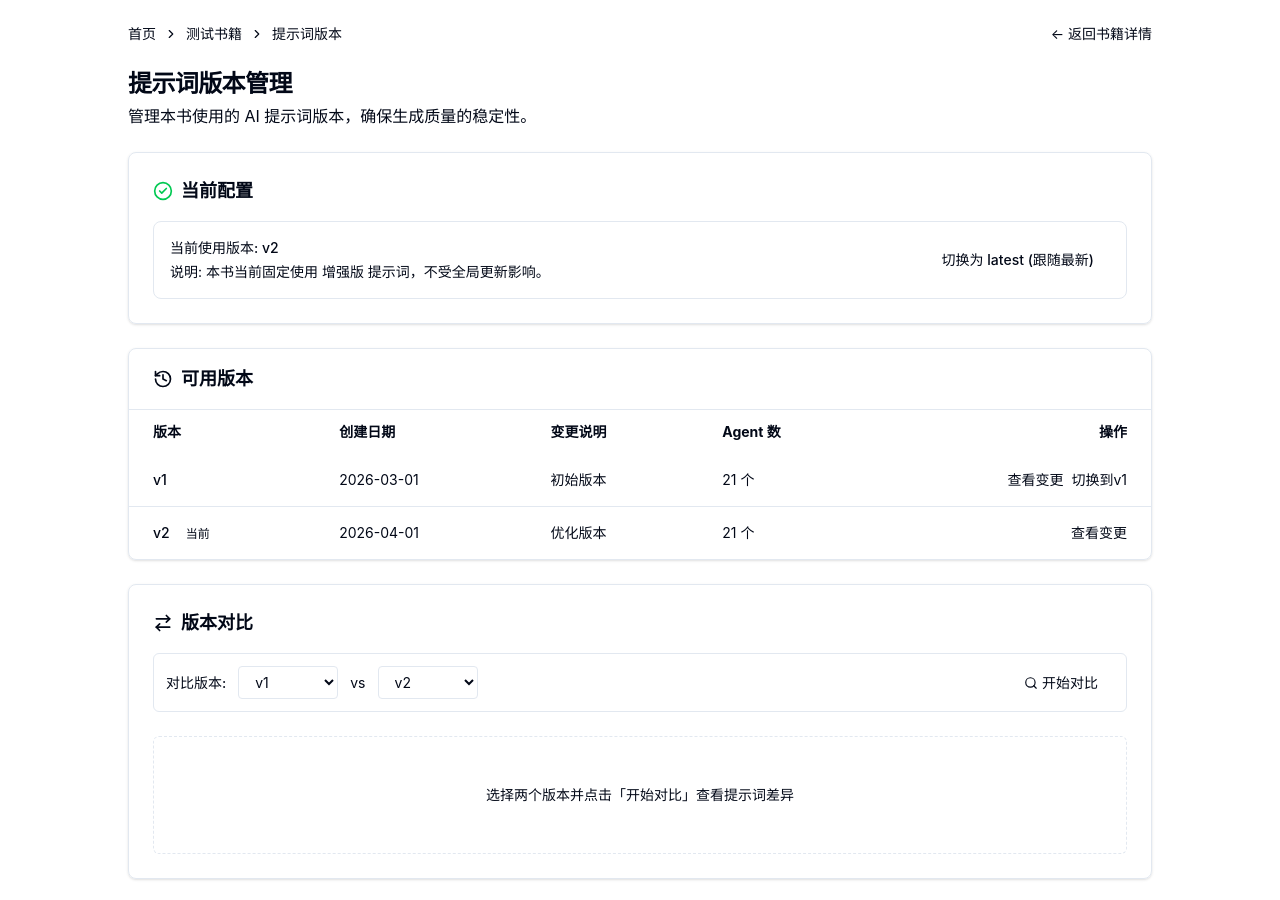
Test: PromptVersionView › shows a visible error when switching version fails
This screenshot has width=1280, height=900.
Click the button "切换到v1" at (1099, 480), box [1071,470,1127,490]
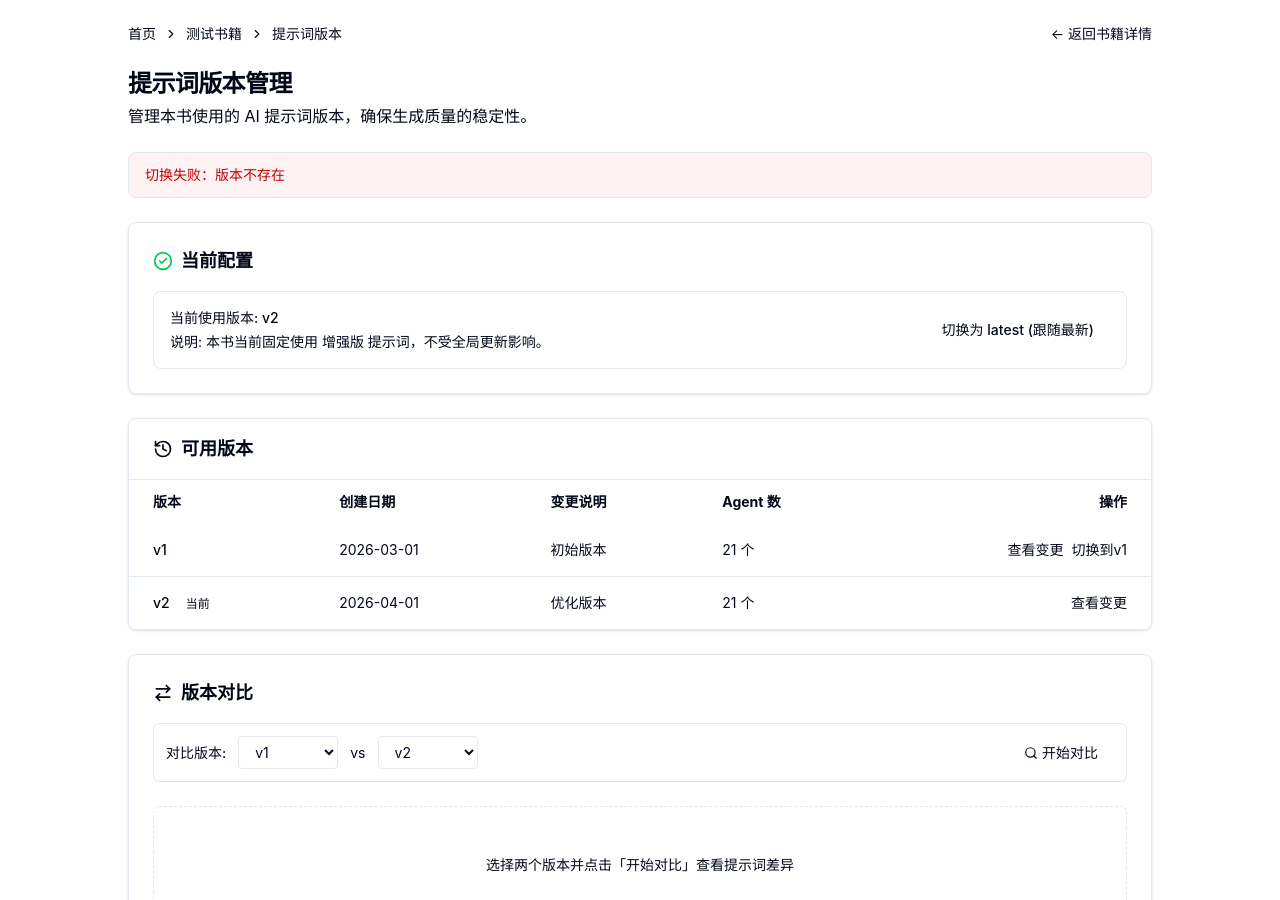
Expected: the message reads "切换失败：版本不存在", [145,166,285,183]
